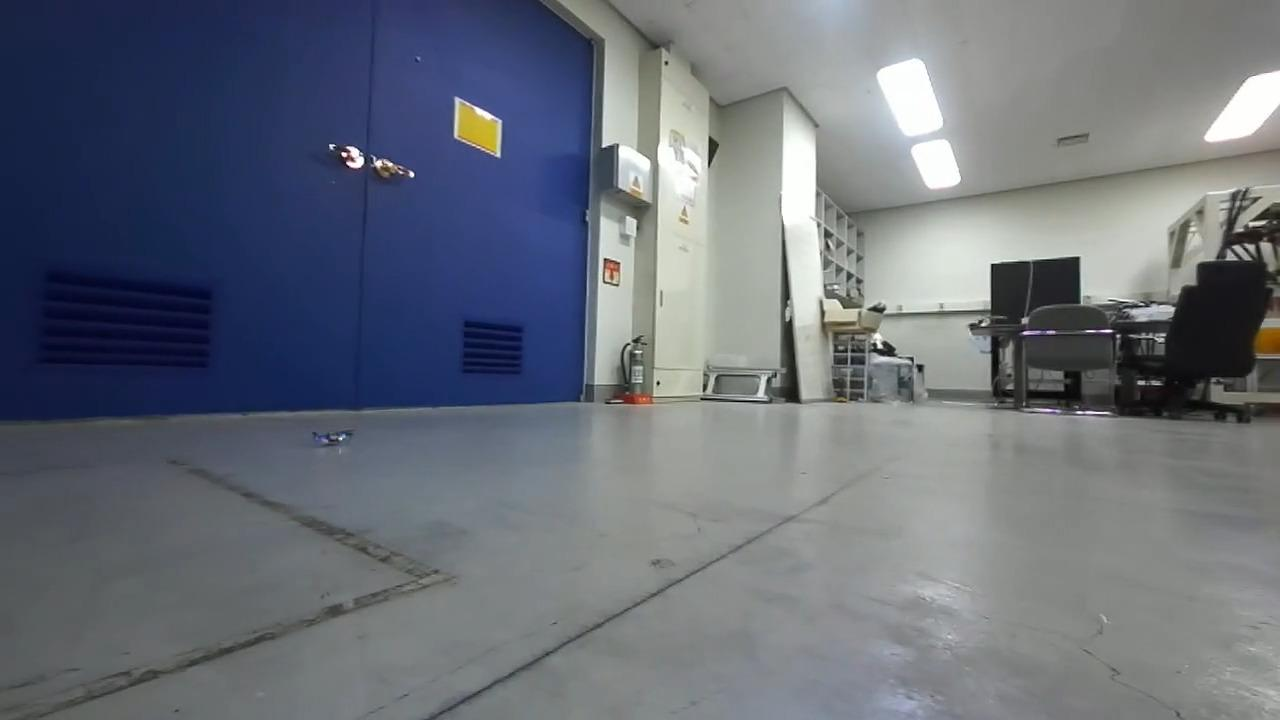crazyflie: (303, 423, 363, 453)
